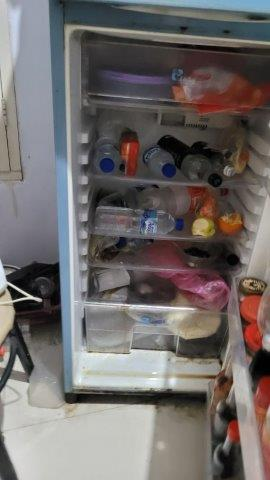botolkaca: (156, 132, 222, 193)
